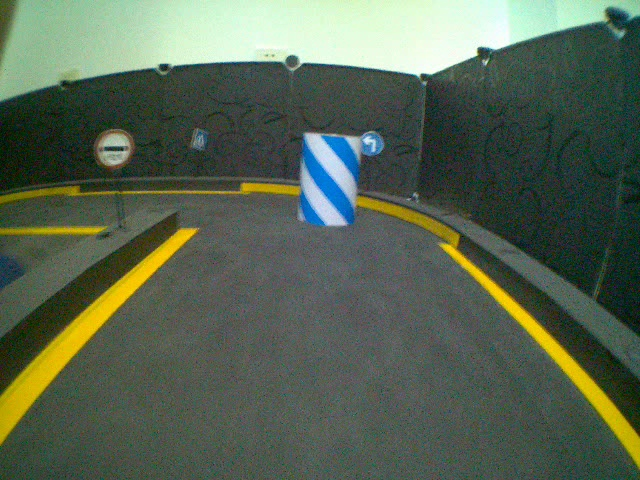bucket: (293, 129, 361, 230)
